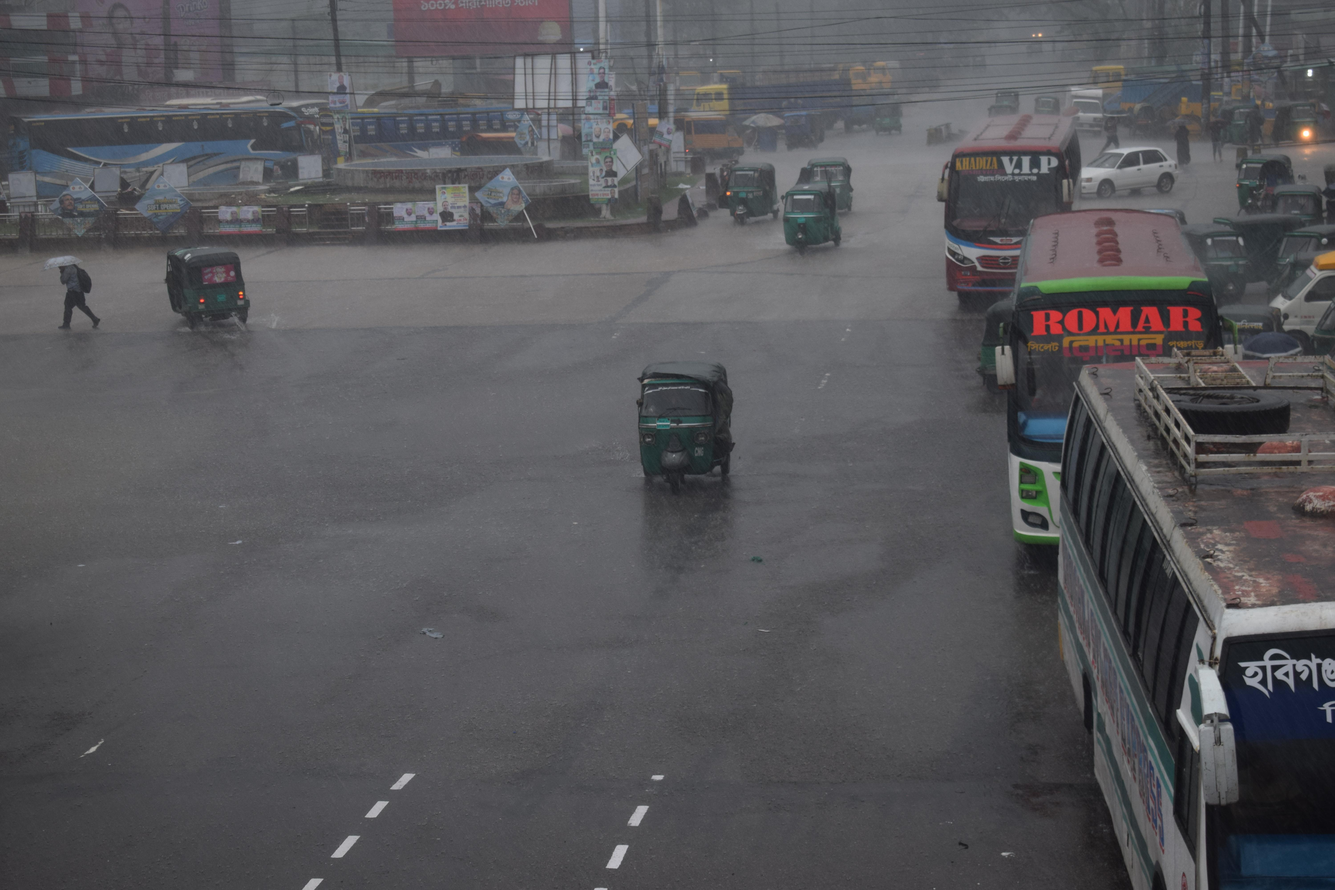Bus: (1014, 332, 1335, 890), (940, 190, 1217, 580), (0, 71, 348, 236), (902, 82, 1111, 307), (327, 69, 593, 203)
Car: (1068, 132, 1190, 208), (1062, 78, 1115, 147)
